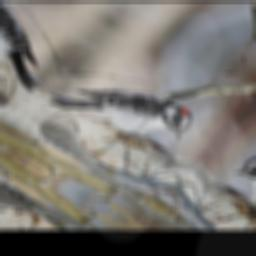Woodpecker: (45, 53, 201, 169)
